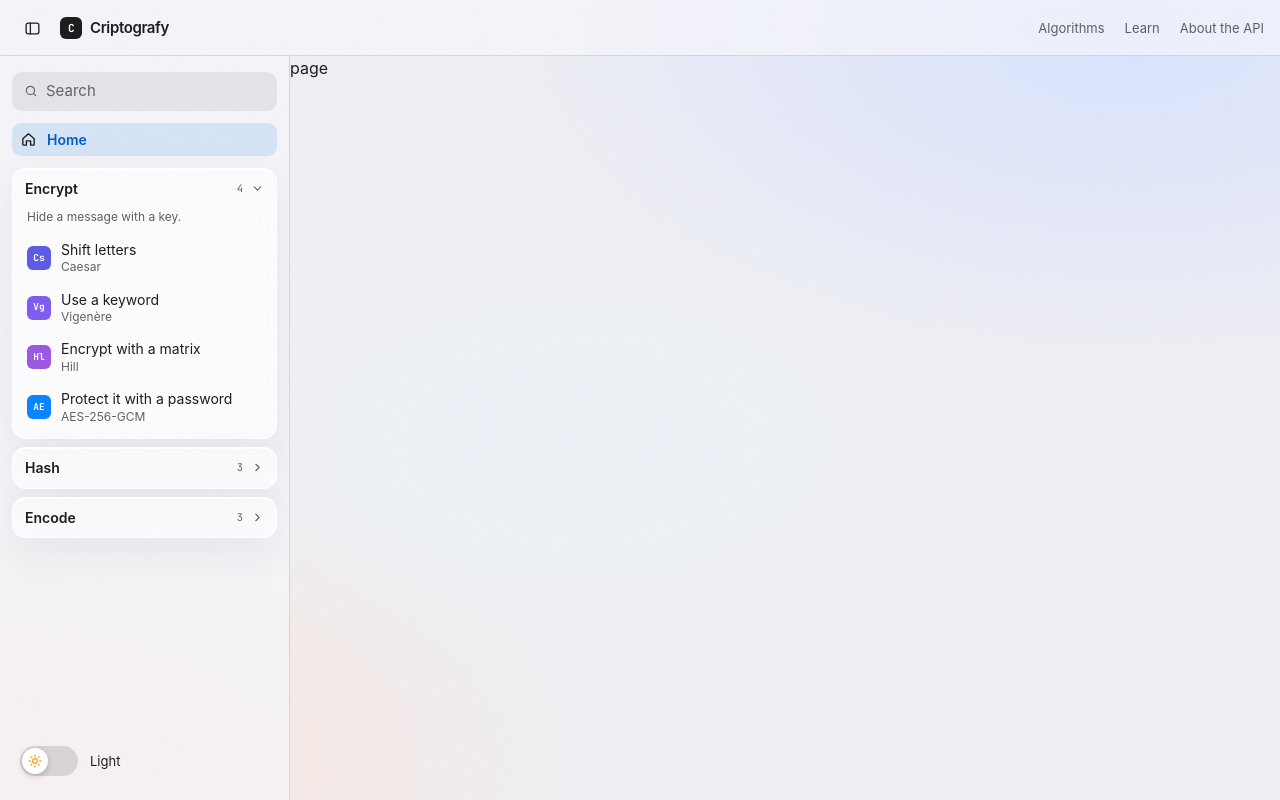
Scenario: Sidebar › search hides non-matching rows and families and opens matching families
Expected: the link "Cs Shift letters Caesar" is shown, x1=27 y1=241 x2=136 y2=274
Type "base" into the search field labelled "Search". click: [156, 91]
box: x1=46 y1=80 x2=265 y2=102
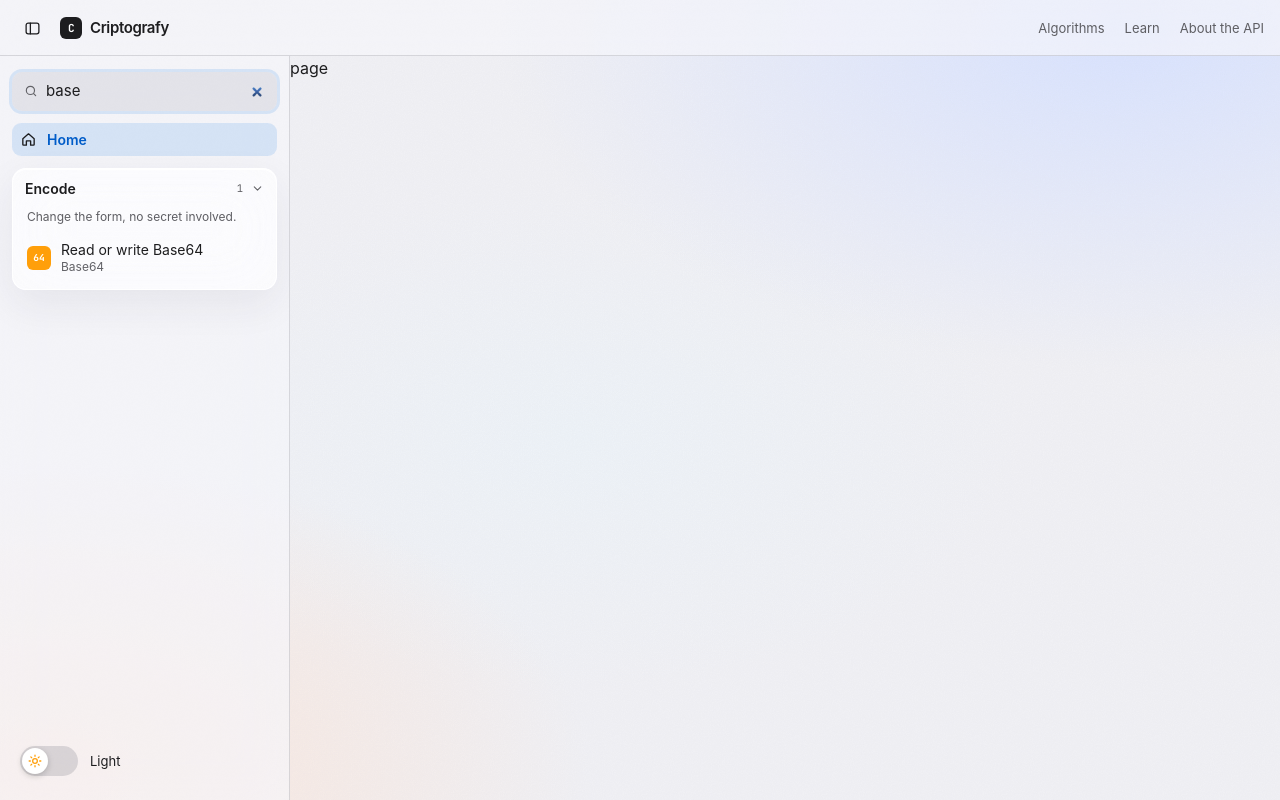
Expected: the link "64 Read or write Base64 Base64" is shown, x1=27 y1=241 x2=203 y2=274
